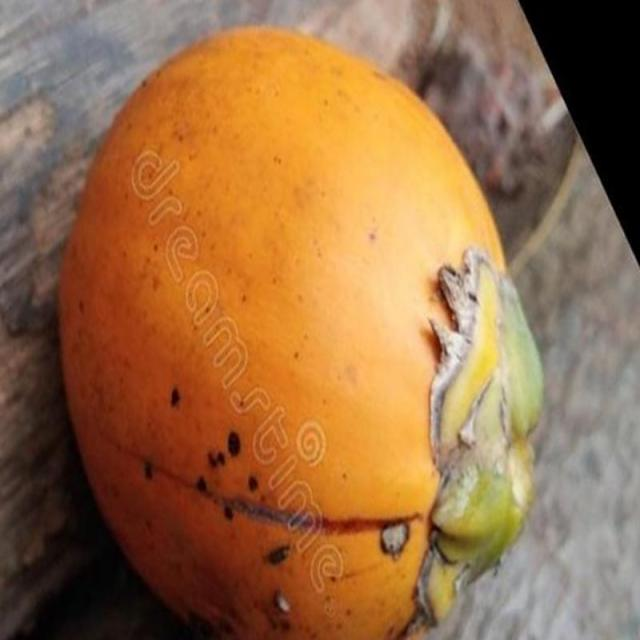good: (57, 27, 545, 639)
